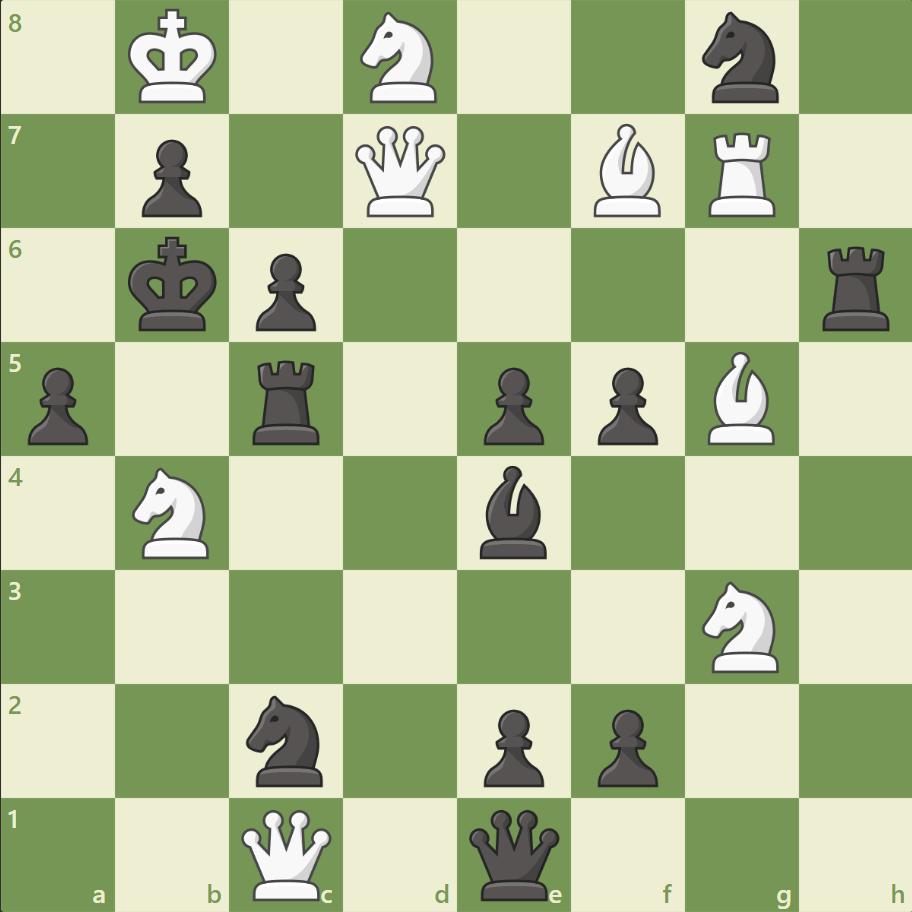B: (585, 120, 669, 222), (698, 347, 782, 449)
K: (124, 4, 224, 112)
N: (351, 7, 449, 110), (124, 461, 222, 564), (692, 575, 789, 677)
Q: (351, 122, 450, 222), (237, 804, 336, 903)
R: (700, 125, 783, 222)
b: (471, 460, 555, 563)
k: (124, 231, 224, 339)
n: (692, 7, 789, 110), (238, 688, 335, 791)
p: (133, 132, 208, 223), (247, 246, 322, 337), (20, 359, 95, 450), (474, 359, 549, 450), (474, 700, 549, 791), (588, 359, 662, 450), (588, 700, 662, 791)
q: (464, 804, 563, 903)
r: (814, 239, 897, 336), (246, 352, 329, 449)
